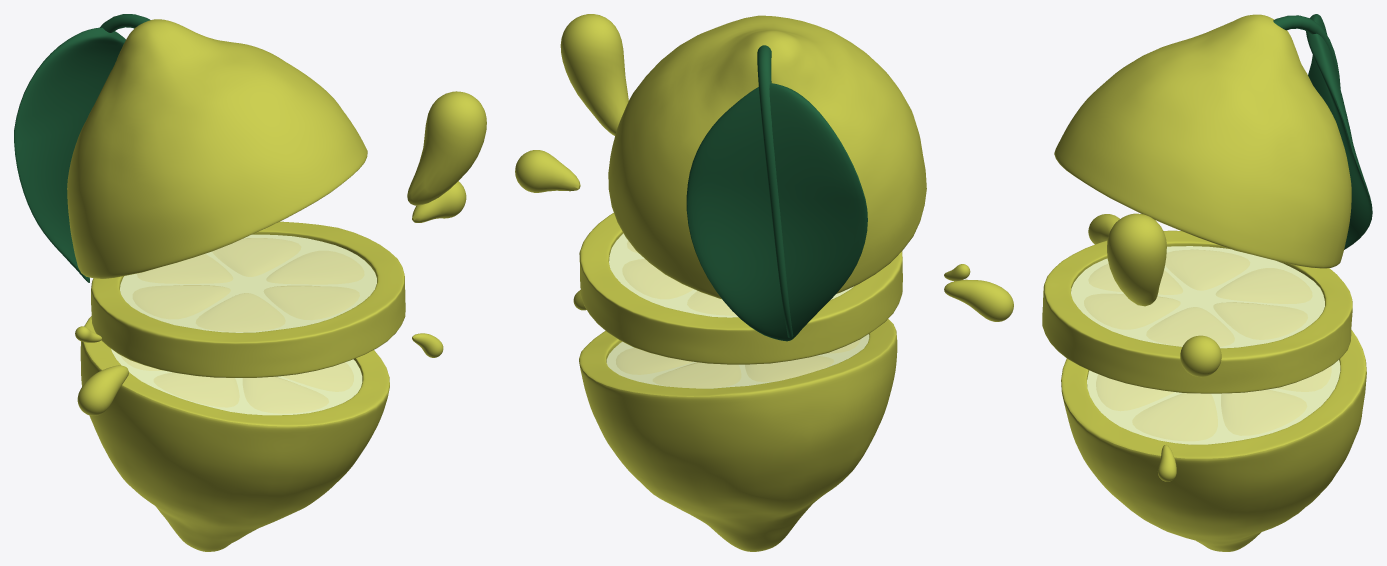
Rendered from lemon.glb.
3 renders of one model, left to right at view 1: azimuth 30°, elevation 25°; view 2: azimuth 150°, elevation 25°; view 3: azimuth 270°, elevation 25°, orthographic. The views are drawn at different scales.
Visible parts, largest first — view 1: Circle.001, Circle.015, Circle.004, Circle.006, Circle.005, Plane.002, Circle.017, Sphere, Circle.016, Sphere.001, Sphere.002; view 2: Circle.001, Circle.015, Plane.002, Circle.004, Circle.017, Sphere, Circle.016, Circle.006, BezierCurve.002, Circle.005, Sphere.002, Sphere.001; view 3: Circle.001, Circle.015, Circle.004, Circle.006, Circle.005, Circle.017, Circle.016, Sphere, Plane.002, Sphere.002, BezierCurve.002, Sphere.001 (+1 smaller).
Boxes of the visible parts, box(x1,y1,x2,y2) form: Circle.001: box(67, 19, 367, 278); Circle.015: box(80, 316, 389, 551); Circle.004: box(91, 221, 405, 377); Circle.006: box(120, 234, 376, 332); Circle.005: box(133, 238, 363, 331); Plane.002: box(14, 27, 125, 282); Circle.017: box(111, 349, 362, 415); Sphere: box(407, 91, 486, 205); Circle.016: box(121, 356, 353, 413); Sphere.001: box(77, 365, 128, 415); Sphere.002: box(412, 181, 466, 222); Circle.001: box(608, 15, 926, 298); Circle.015: box(579, 319, 897, 551); Plane.002: box(686, 83, 867, 341); Circle.004: box(579, 213, 902, 364); Circle.017: box(606, 334, 869, 388); Sphere: box(560, 14, 628, 135); Circle.016: box(616, 340, 859, 388); Circle.006: box(609, 233, 853, 317); BezierCurve.002: box(757, 45, 793, 338); Circle.005: box(622, 241, 735, 315); Sphere.002: box(515, 150, 580, 192); Sphere.001: box(944, 279, 1013, 321); Circle.001: box(1054, 14, 1351, 268); Circle.015: box(1061, 330, 1366, 551); Circle.004: box(1042, 230, 1352, 393); Circle.006: box(1071, 246, 1324, 348); Circle.005: box(1084, 250, 1311, 346); Circle.017: box(1087, 360, 1340, 444); Circle.016: box(1096, 366, 1331, 440); Sphere: box(1107, 213, 1166, 306); Plane.002: box(1306, 14, 1372, 249); Sphere.002: box(1180, 335, 1221, 377); BezierCurve.002: box(1273, 15, 1340, 88); Sphere.001: box(1088, 214, 1119, 244).
Bounding box in the file's own units: 2.65 × 3.06 × 1.78.
